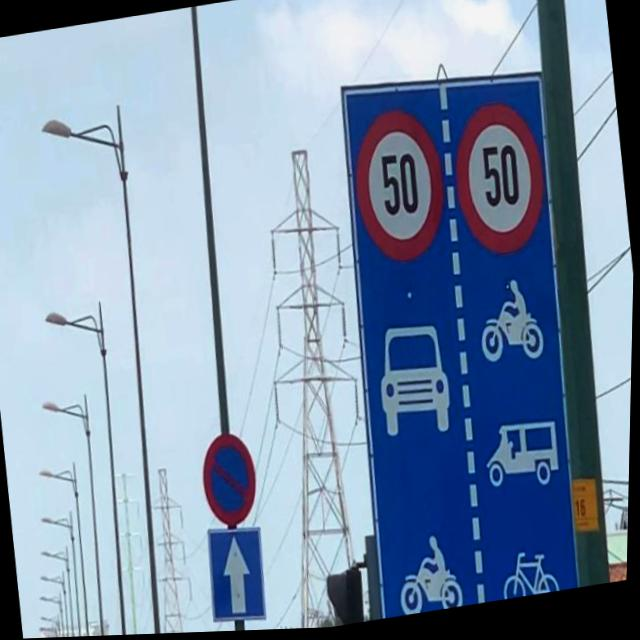Cam do xe: (198, 431, 264, 529)
Duong mot chieu: (204, 525, 272, 630)
